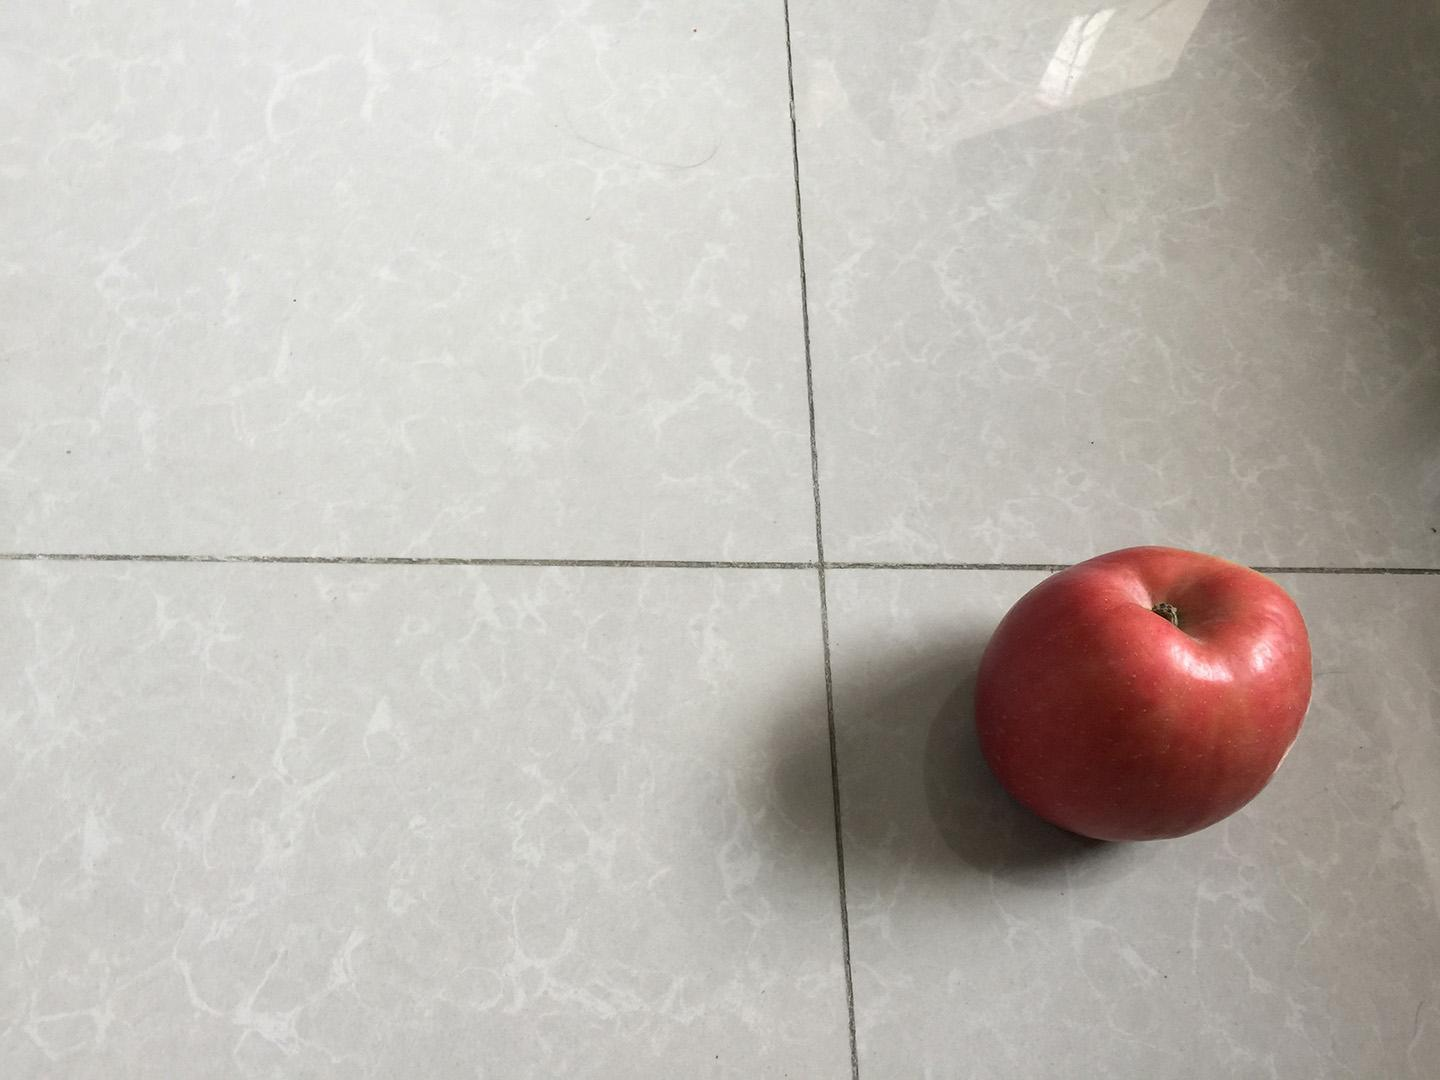apple: (971, 540, 1321, 846)
